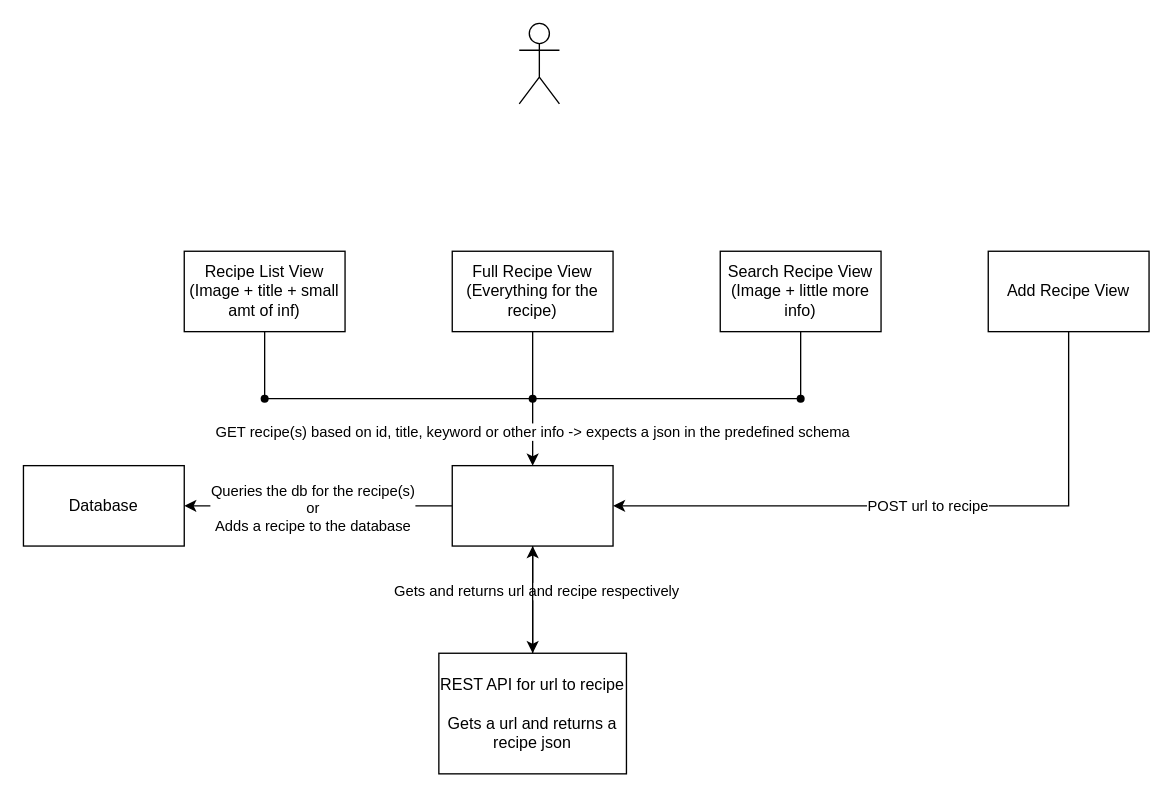
The diagram is 1173 pixels wide and 797 high, and some of its shapes have lost their labels. The shapes that lost their labels are listed below. From the top down, each one's box as (x1, y1, x2, y2) in pixels, then its label:
(518, 22, 559, 104): Actor
(451, 464, 613, 546): Main Server
